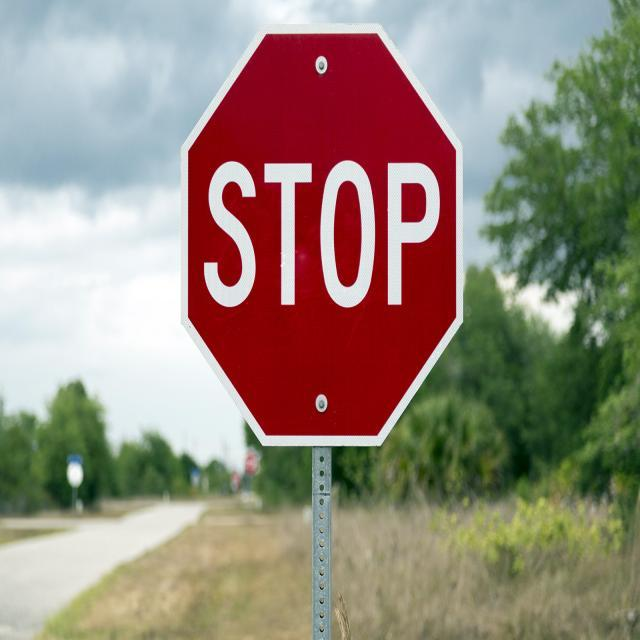stop: (178, 22, 465, 448)
